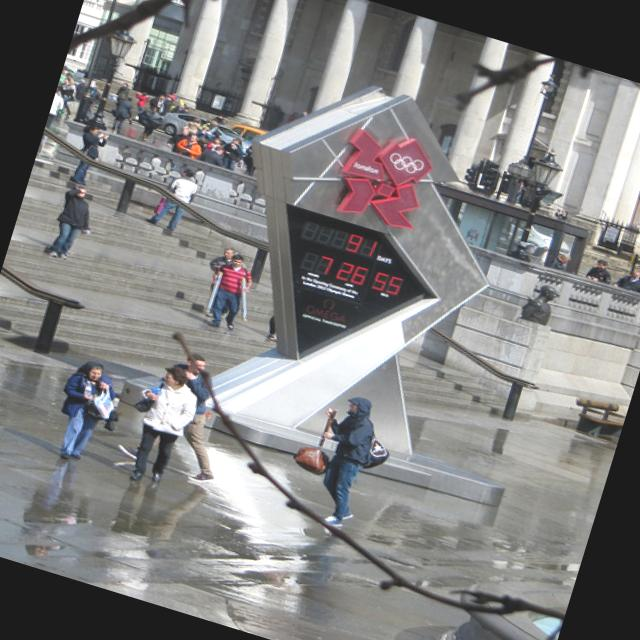Vehicle: (158, 106, 254, 158), (504, 217, 576, 269), (226, 121, 267, 149)
